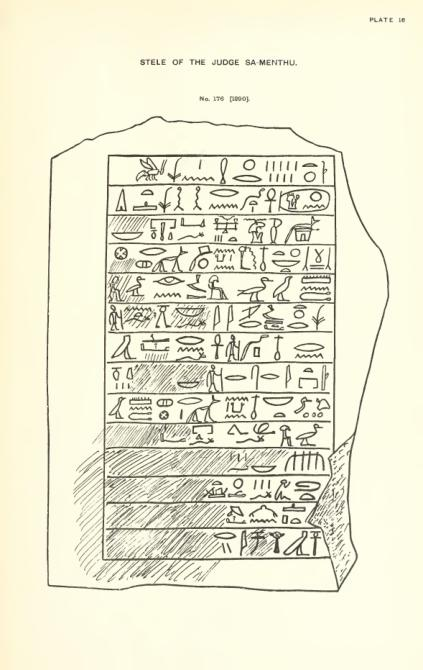circle: (276, 187, 331, 213)
